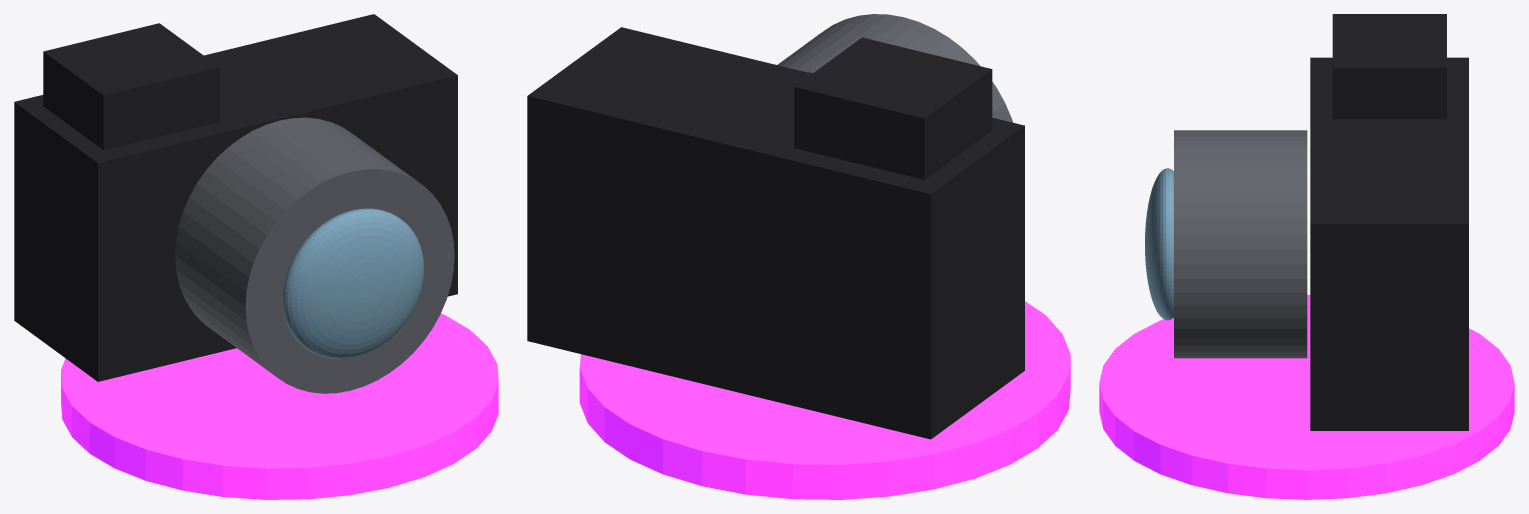
The model's file is modelling_camera.glb.
The picture shows the model from 3 angles, left to right: view 1: azimuth 30°, elevation 25°; view 2: azimuth 150°, elevation 25°; view 3: azimuth 270°, elevation 25°; orthographic projection. The views are drawn at different scales.
Parts seen in each view (by area): view 1: 05_01_Popular_Modelling_Camera_part_01, 05_01_Popular_Modelling_Camera_ROOT_base, 05_01_Popular_Modelling_Camera_part_02, 05_01_Popular_Modelling_Camera_part_04, 05_01_Popular_Modelling_Camera_part_03; view 2: 05_01_Popular_Modelling_Camera_part_01, 05_01_Popular_Modelling_Camera_ROOT_base, 05_01_Popular_Modelling_Camera_part_04, 05_01_Popular_Modelling_Camera_part_02; view 3: 05_01_Popular_Modelling_Camera_part_01, 05_01_Popular_Modelling_Camera_ROOT_base, 05_01_Popular_Modelling_Camera_part_02, 05_01_Popular_Modelling_Camera_part_04, 05_01_Popular_Modelling_Camera_part_03.
Part boxes in pixels (x1,y1,x2,y2): 05_01_Popular_Modelling_Camera_part_01: (14, 14, 457, 381); 05_01_Popular_Modelling_Camera_ROOT_base: (61, 313, 498, 499); 05_01_Popular_Modelling_Camera_part_02: (175, 117, 454, 393); 05_01_Popular_Modelling_Camera_part_04: (43, 23, 219, 150); 05_01_Popular_Modelling_Camera_part_03: (282, 208, 423, 359); 05_01_Popular_Modelling_Camera_part_01: (527, 27, 1024, 439); 05_01_Popular_Modelling_Camera_ROOT_base: (579, 301, 1070, 499); 05_01_Popular_Modelling_Camera_part_04: (794, 37, 992, 179); 05_01_Popular_Modelling_Camera_part_02: (777, 14, 1012, 122); 05_01_Popular_Modelling_Camera_part_01: (1310, 57, 1468, 430); 05_01_Popular_Modelling_Camera_ROOT_base: (1099, 294, 1514, 499); 05_01_Popular_Modelling_Camera_part_02: (1174, 130, 1307, 358); 05_01_Popular_Modelling_Camera_part_04: (1332, 14, 1446, 119); 05_01_Popular_Modelling_Camera_part_03: (1145, 168, 1173, 320).
Bounding box in the file's own units: 0.76 × 0.6526 × 0.76.
